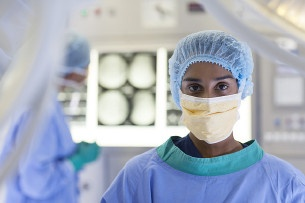Mask: (176, 73, 245, 142)
